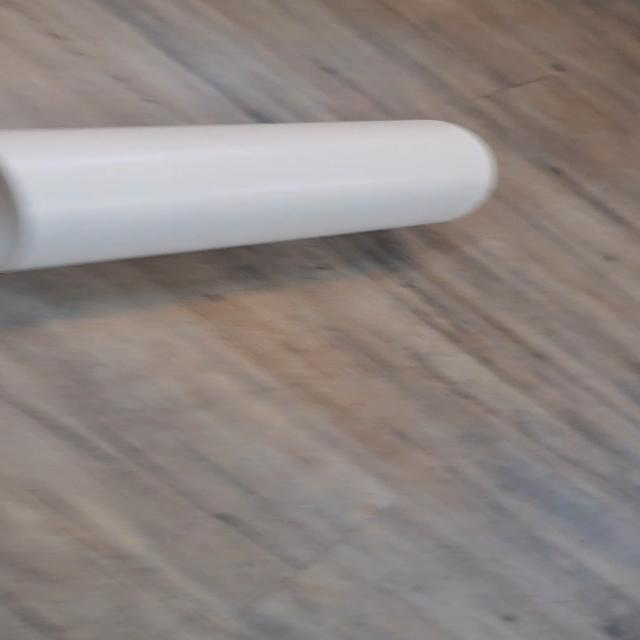CORAL: (0, 90, 506, 276)
